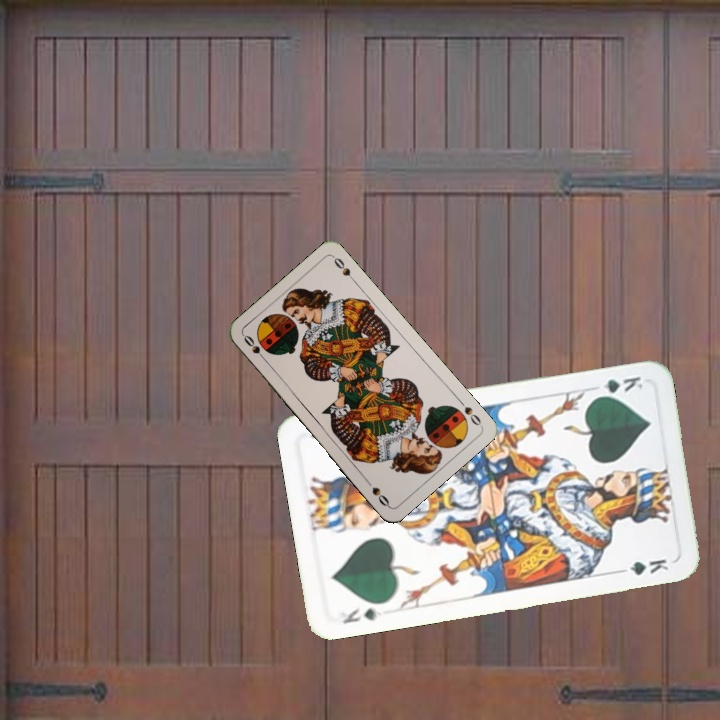GK: (590, 372, 646, 401), (339, 604, 384, 626)
SO: (239, 331, 270, 365), (454, 395, 484, 428)
